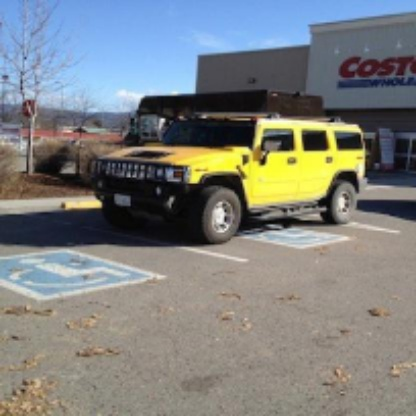Vehicle: (87, 113, 368, 246)
